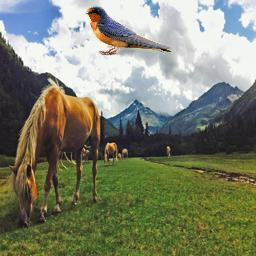Swallow: (83, 4, 172, 58)
